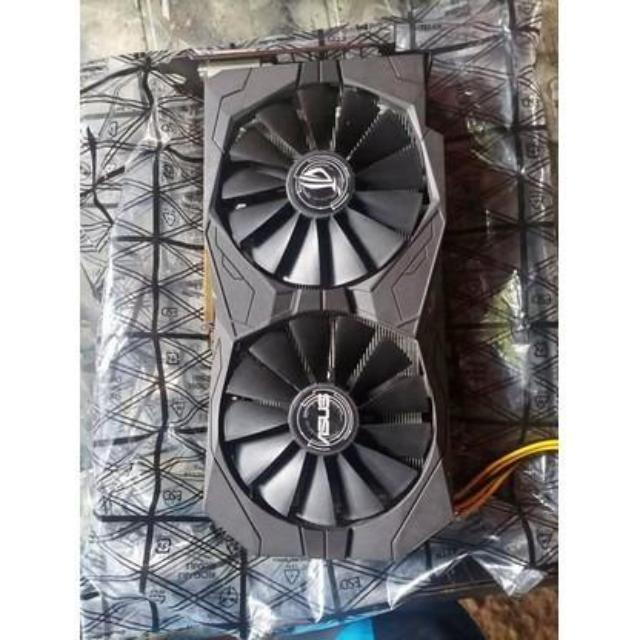GPU: (202, 57, 454, 563)
